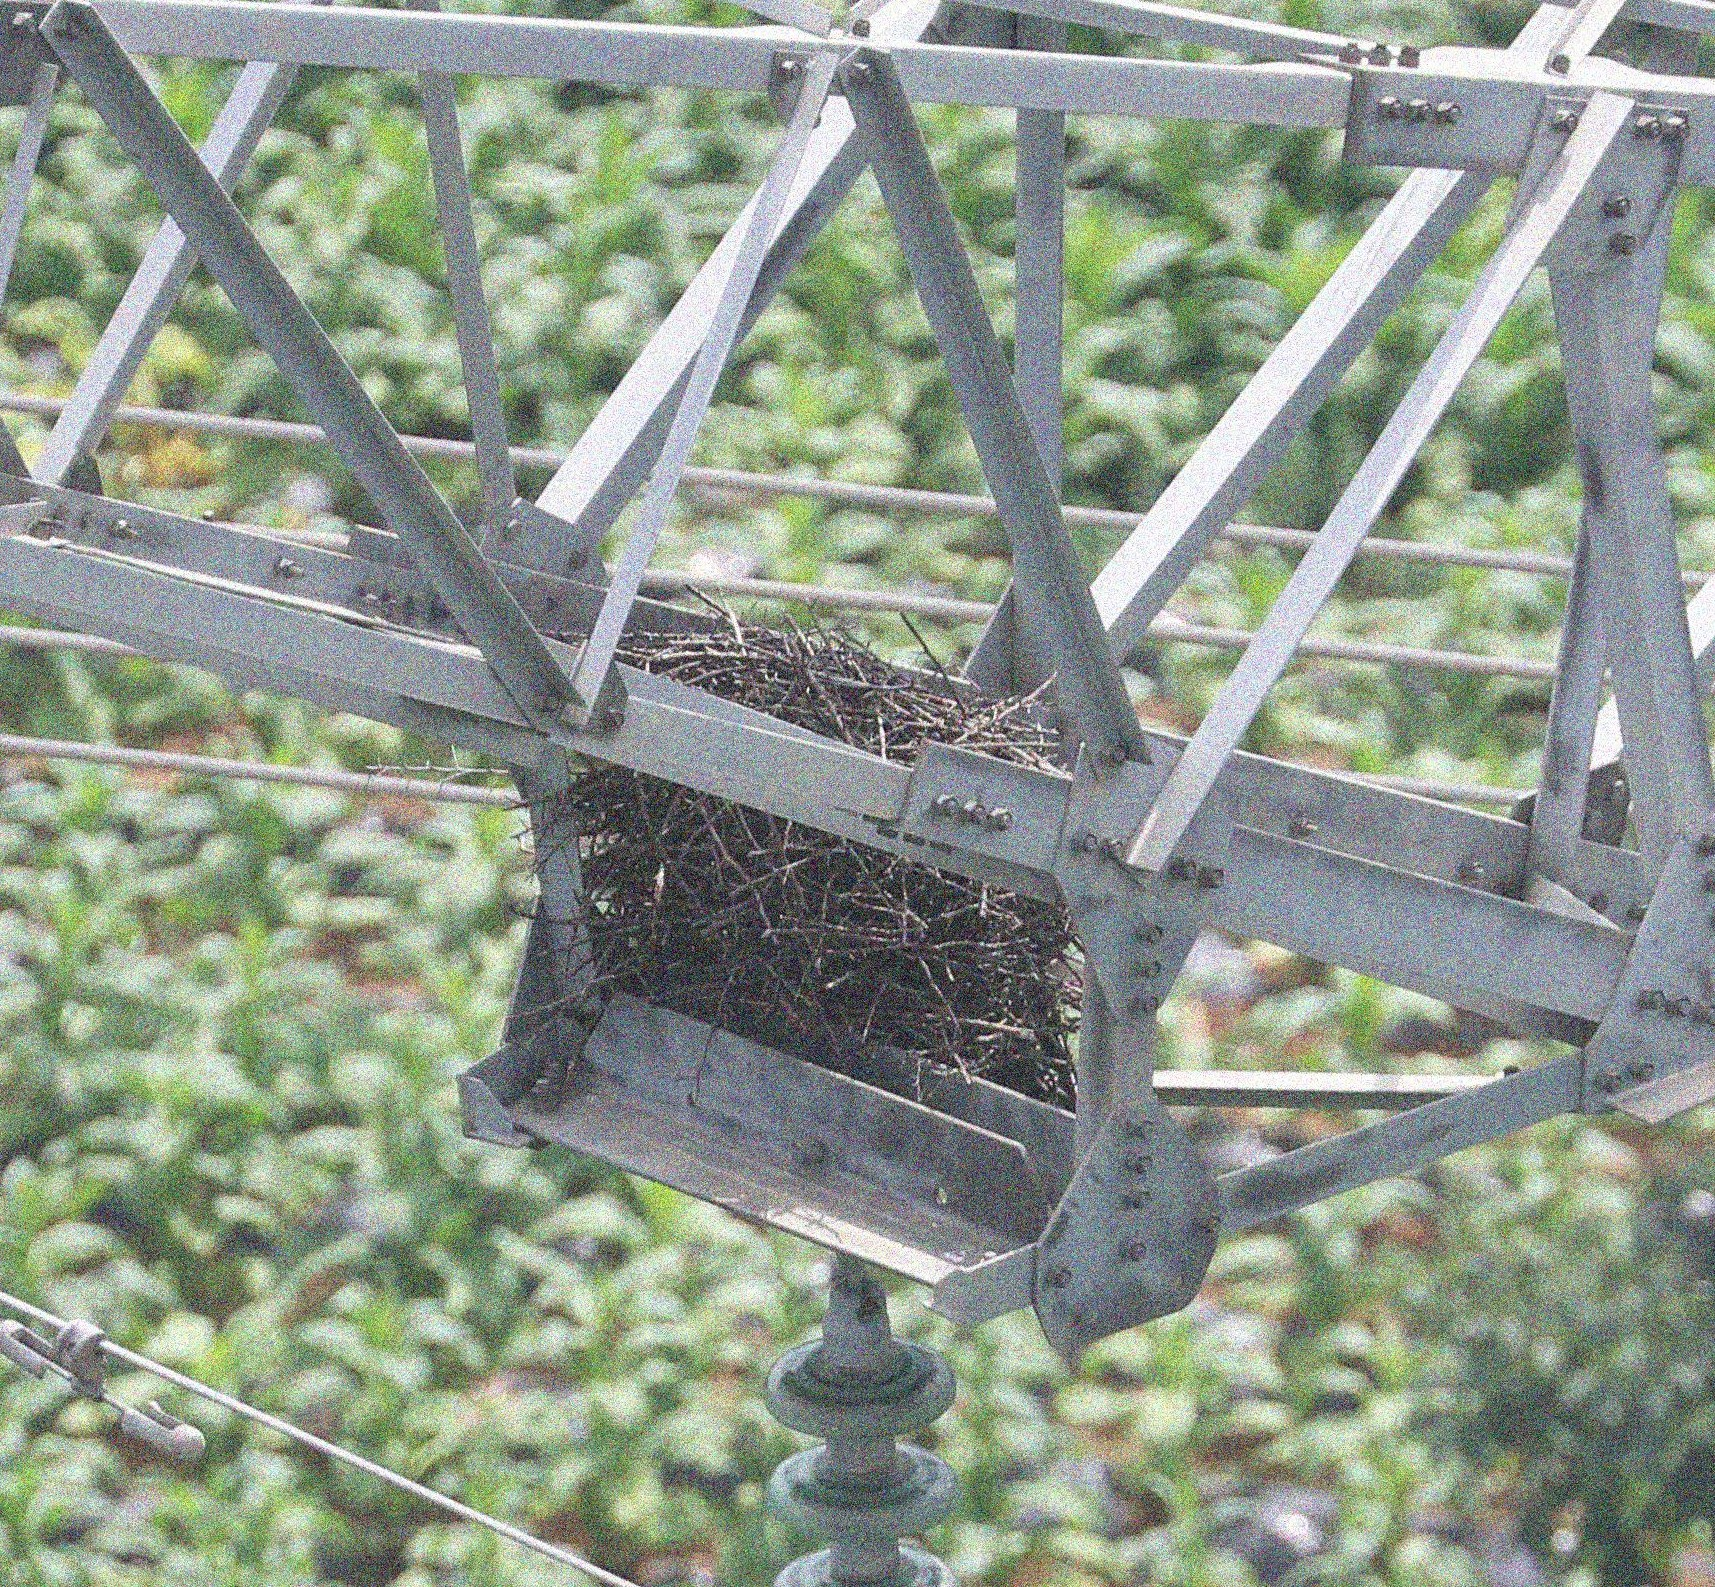niaowo: (574, 607, 1095, 1139)
